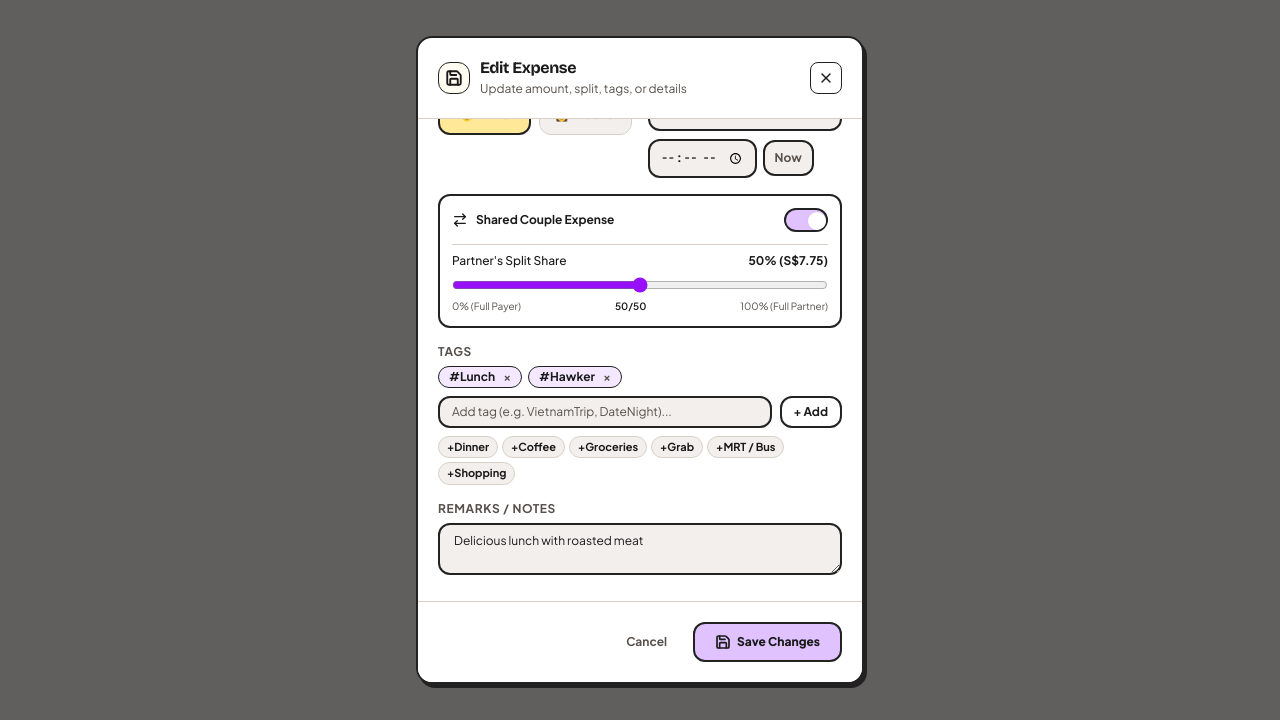
Test: Ledger Power Tools, Fast Log & Bulk Log › EditExpenseModal › allows toggling shared split and adding a new tag
(page scrolled)
Note:  Add tag
Type "Foodie" into the field with placeholder "Add tag (e.g. VietnamTrip, DateNight)...".
click(605, 412); type("Foodie")  # box [438,396,772,428]
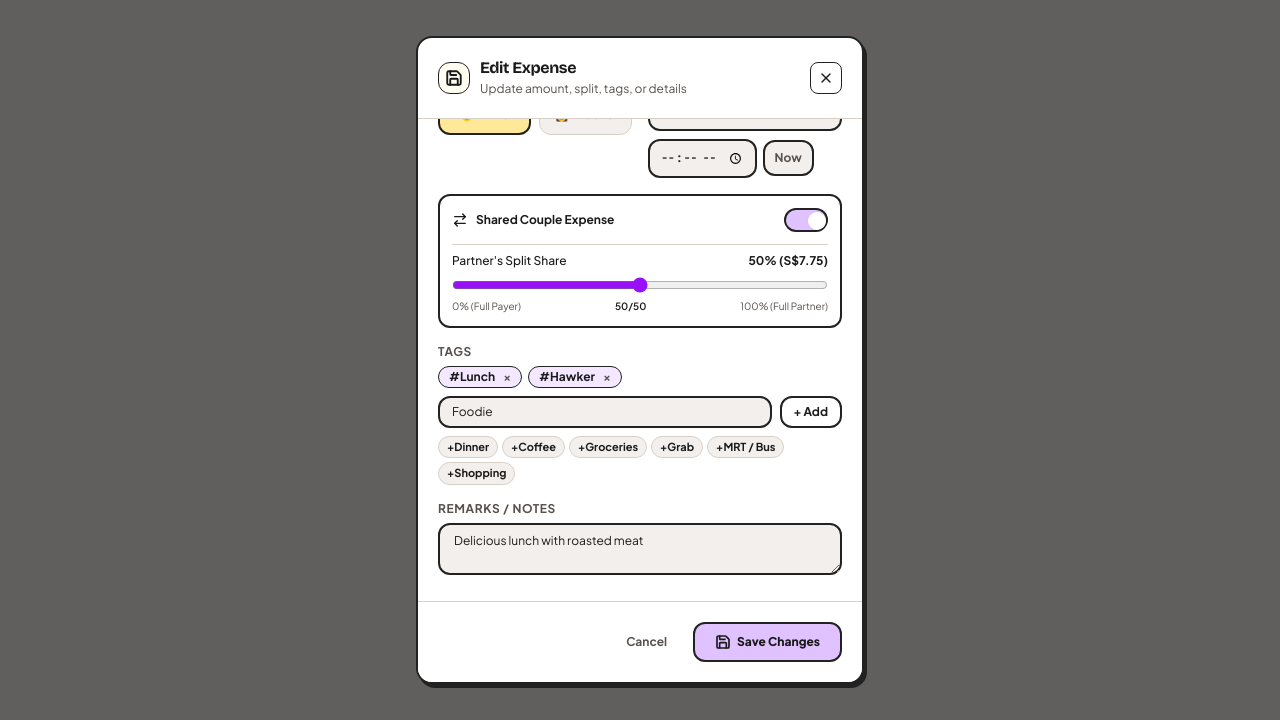
Click the button "+ Add".
click(811, 412)  # box [780,396,842,428]
(page scrolled)
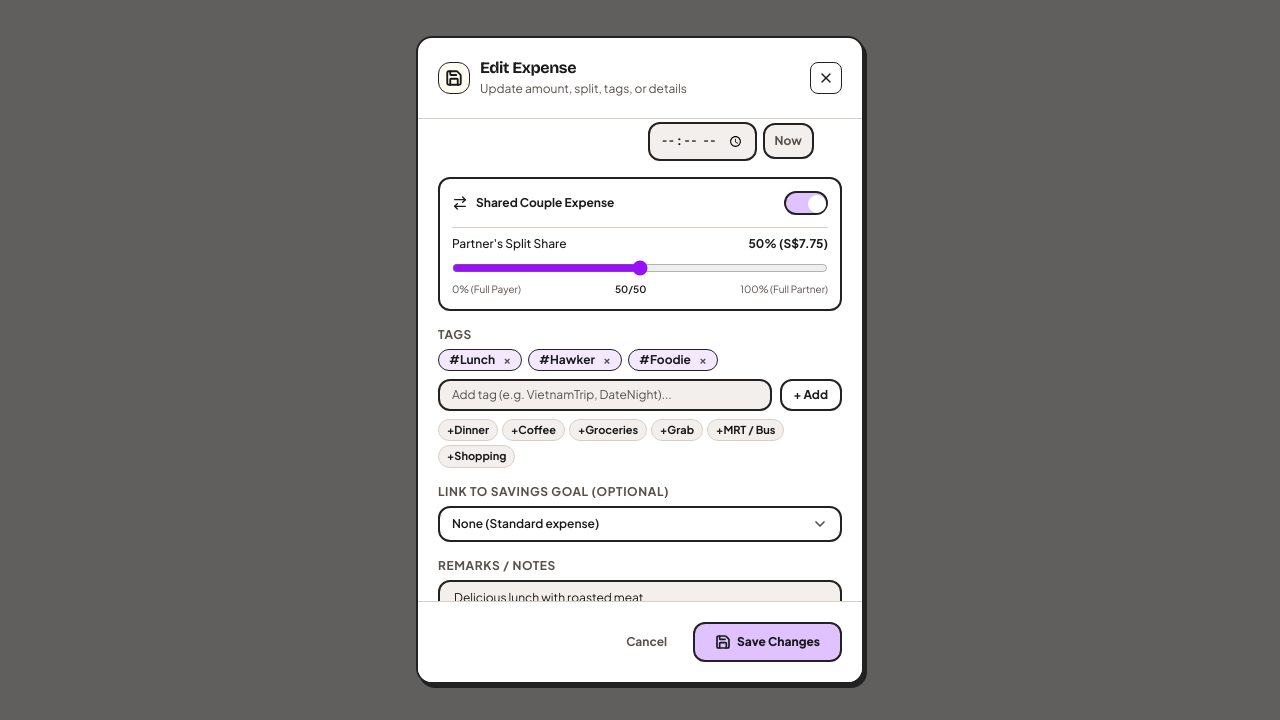
Expected: the text "#Foodie" is shown, [628,349,718,371]
